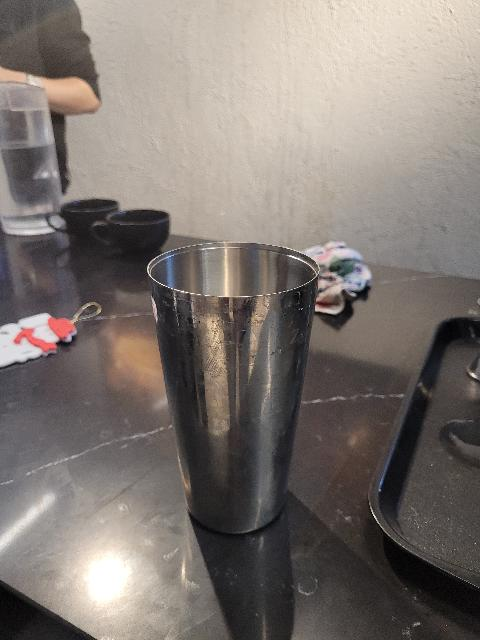Metal: (143, 237, 326, 532)
